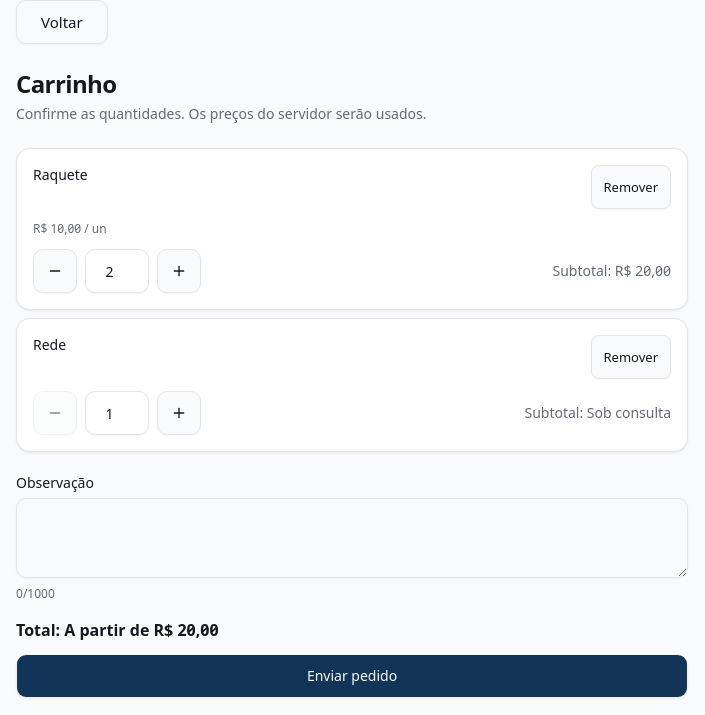
PortalCartPage validity gate › shows the line subtotal, a partial total, and removes only through the button
This screenshot has width=705, height=715.
Expected: the text "Subtotal: R$ 20,00" is shown, [552, 261, 671, 281]
Expected: the text "Subtotal: Sob consulta" is shown, [524, 403, 671, 423]
Clear the number field named "Quantidade de Raquete": (117, 271) [85, 249, 149, 293]
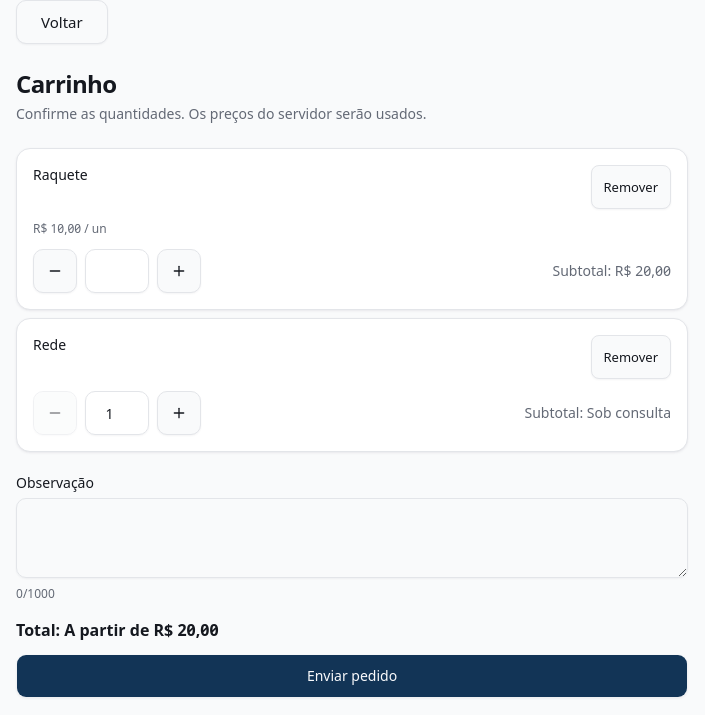
Expected: the text "Raquete" is shown, [33, 165, 88, 185]
Expected: the text "Subtotal: R$ 20,00" is shown, [552, 261, 671, 281]
Leave the number field named "Quantidade de Raquete", box [85, 249, 149, 293]
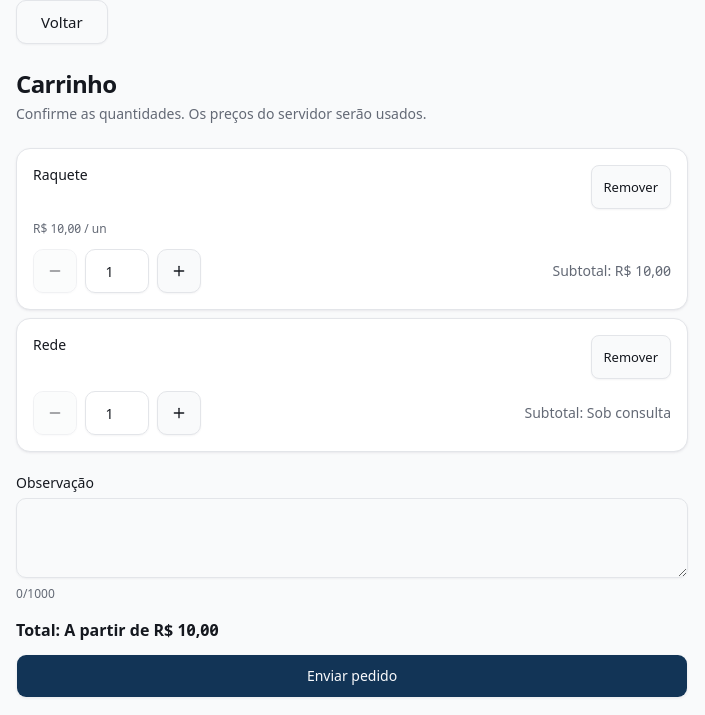
Expected: the text "Subtotal: R$ 10,00" is shown, [552, 261, 671, 281]
Replace the text in the number field named "Quantidade de Raquete" with "0": (117, 271) [85, 249, 149, 293]
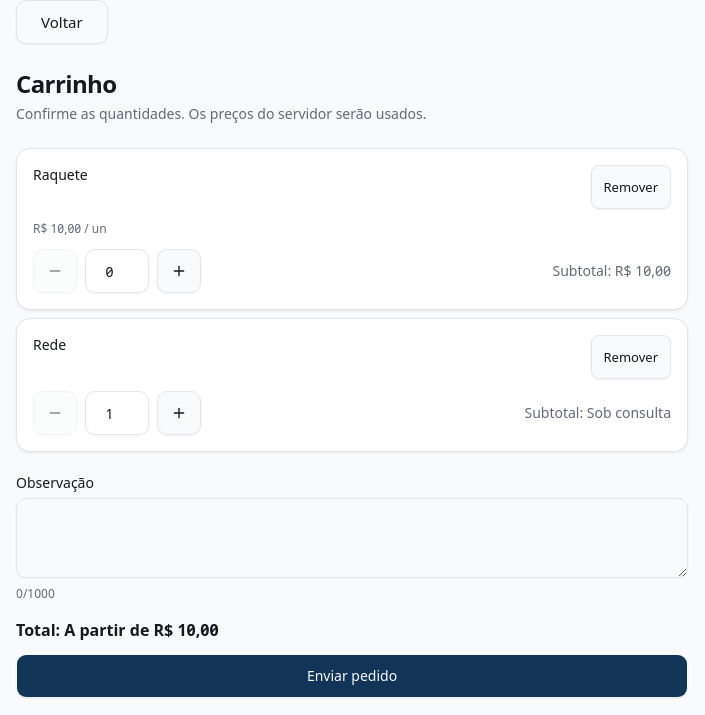
Expected: the text "Raquete" is shown, [33, 165, 88, 185]
Leave the number field named "Quantidade de Raquete", box [85, 249, 149, 293]
Replace the text in the number field named "Quantidade de Raquete" with "250": (117, 271) [85, 249, 149, 293]
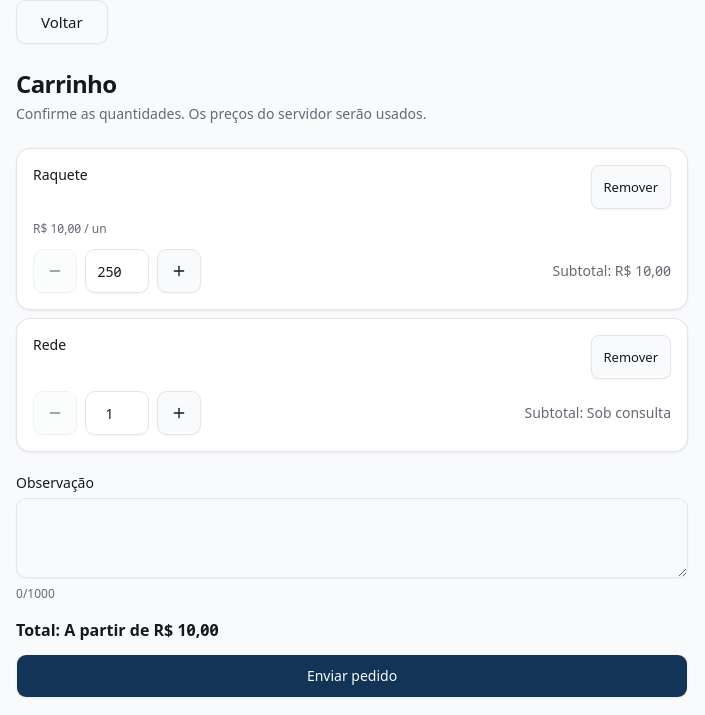
Leave the number field named "Quantidade de Raquete", box [85, 249, 149, 293]
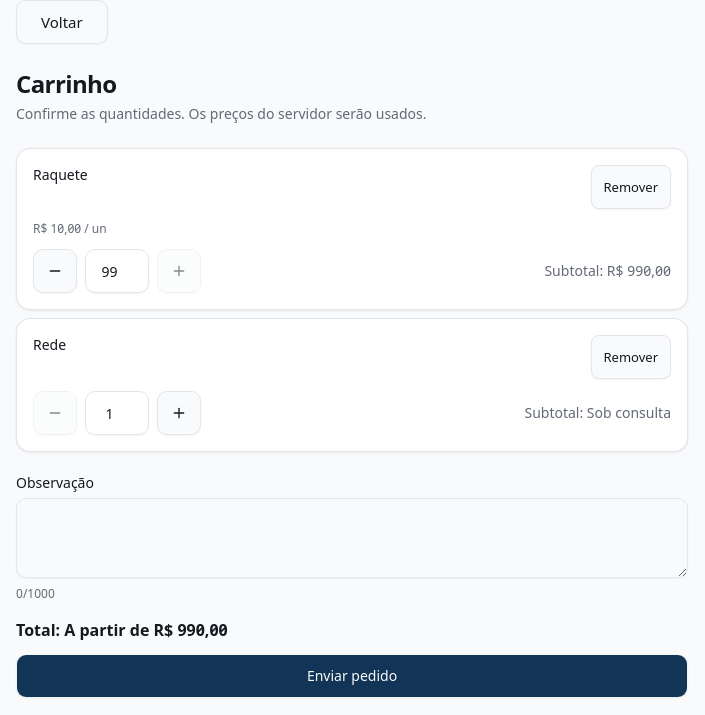
Click the button "Remover" in the row of "Rede": (631, 357) [590, 335, 671, 379]
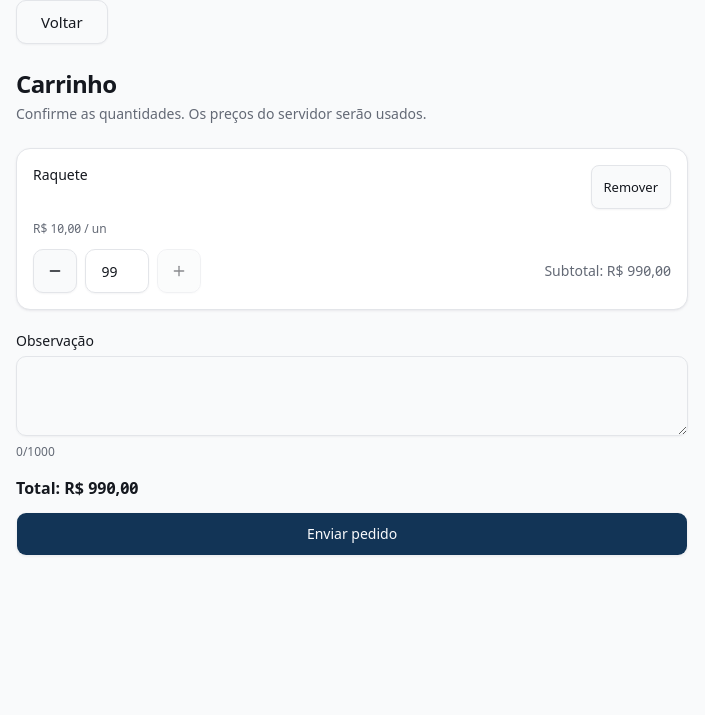
Expected: the text "Rede" is gone
Expected: the text "Total: R$ 990,00" is shown, [16, 477, 138, 499]
Expected: the text "A partir de" is gone
